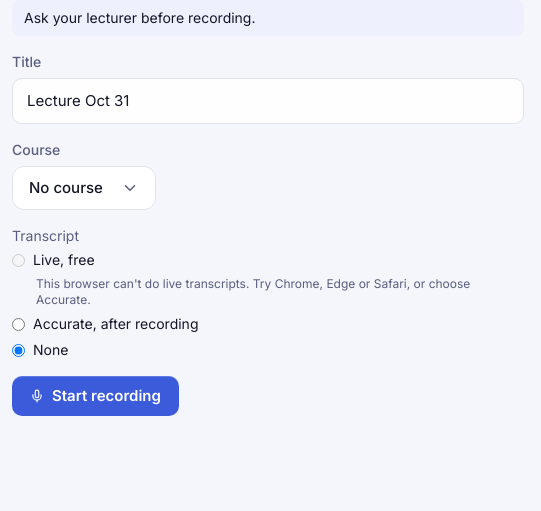
Recorder › choosing Accurate on Free shows that it's a Premium feature
This screenshot has width=541, height=511.
Click the radio button labelled "Accurate, after recording".
click(18, 324)  # box [12,318,25,330]
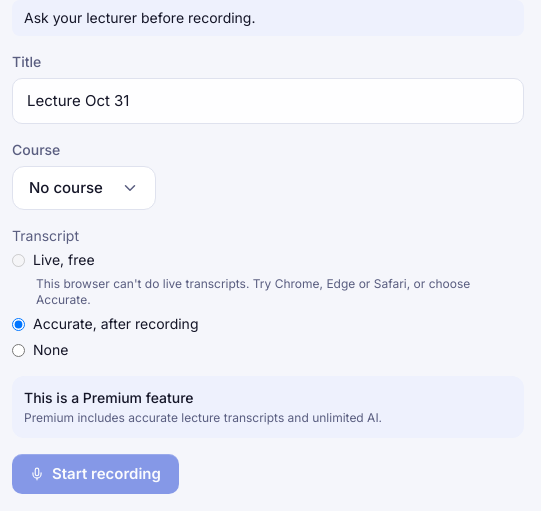
Result: the text "This is a Premium feature" is shown at [24,389,194,406]
Result: the button "Start recording" is disabled at [12,454,179,494]
